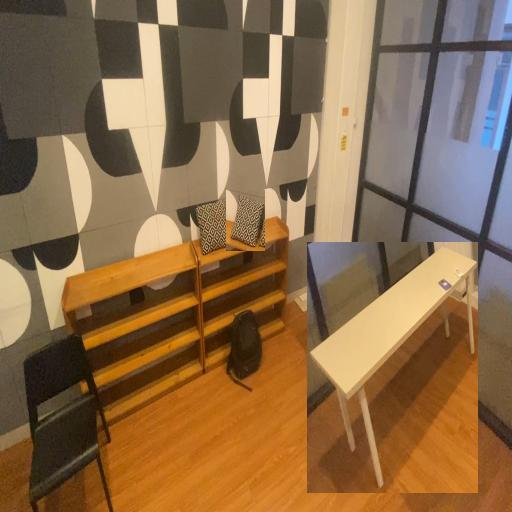bantal: (226, 190, 265, 251), (194, 197, 232, 259)
hp: (332, 272, 348, 296)
kursi: (22, 326, 128, 512)
lemari: (60, 234, 206, 438), (192, 209, 292, 377)
meja: (307, 242, 478, 493)
remote AC: (320, 259, 334, 286)
tas ransel: (224, 306, 266, 396)
